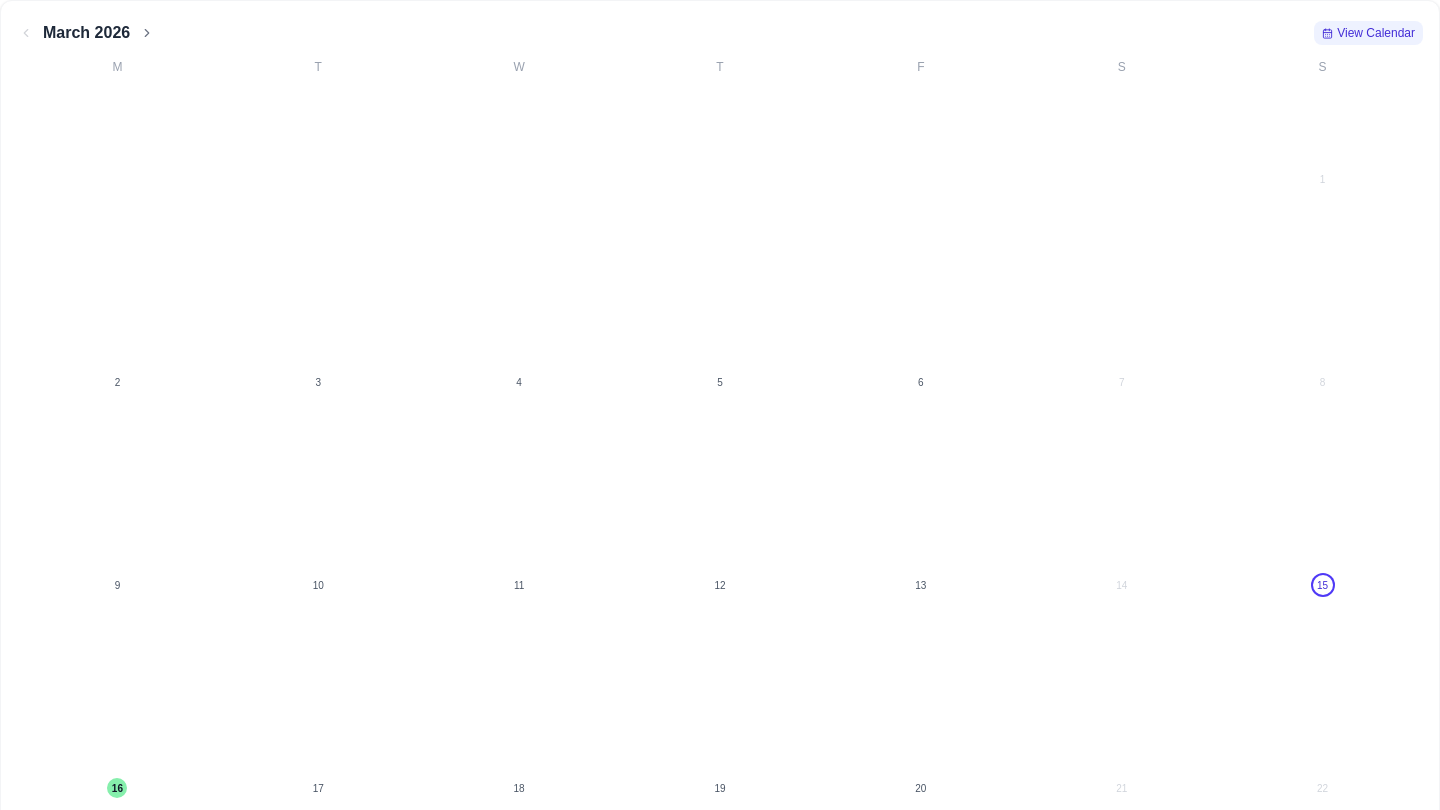
Test: MiniCalendar — leave click popover › shows a popover when a leave dot is clicked
Step 1. Click the text with test id "leave-dot" → (117, 788), box [107,778,127,798]
(page scrolled)
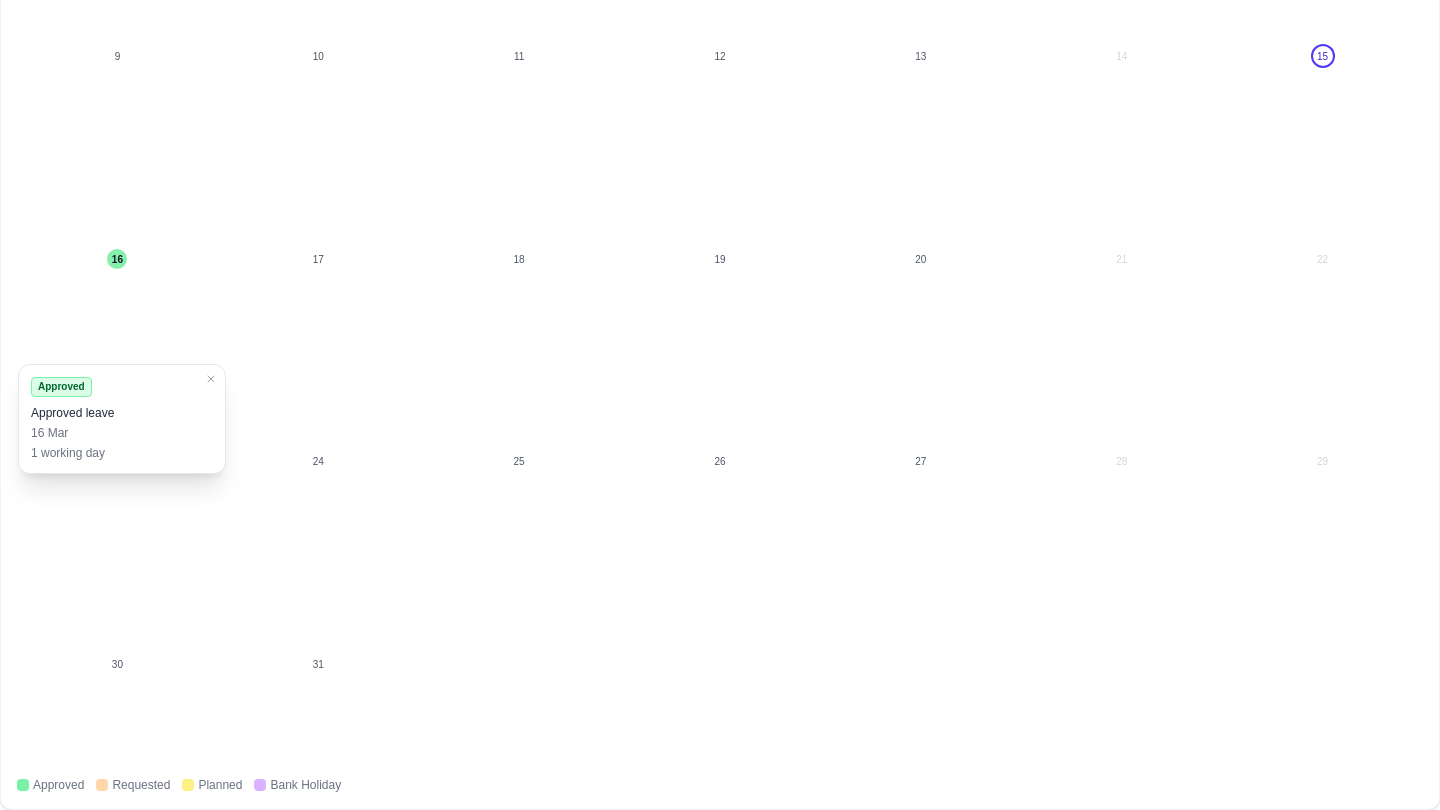
Now the tooltip "Approved Approved leave 16 Mar 1 working day" is shown, box [18,364,226,474]
